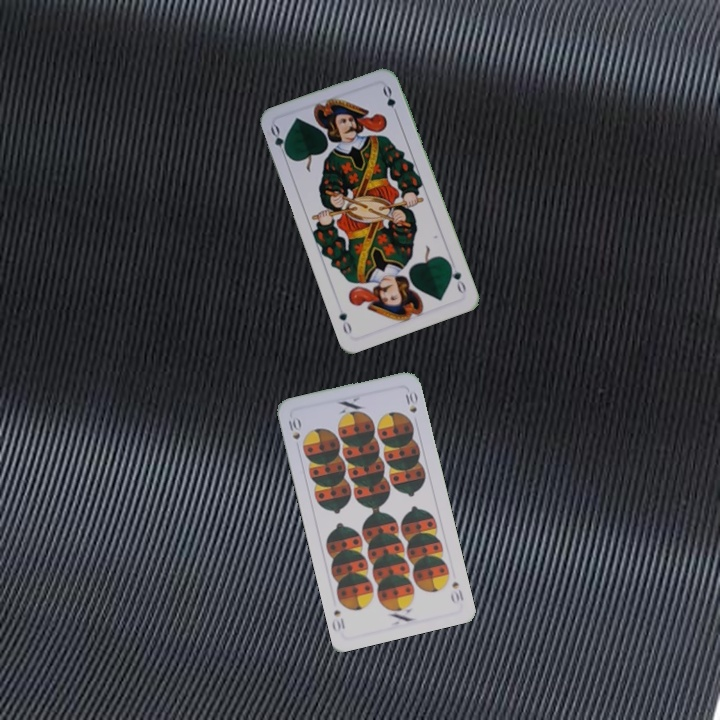GO: (266, 121, 292, 161), (444, 257, 469, 296)
S10: (284, 413, 304, 442), (448, 577, 466, 606)
